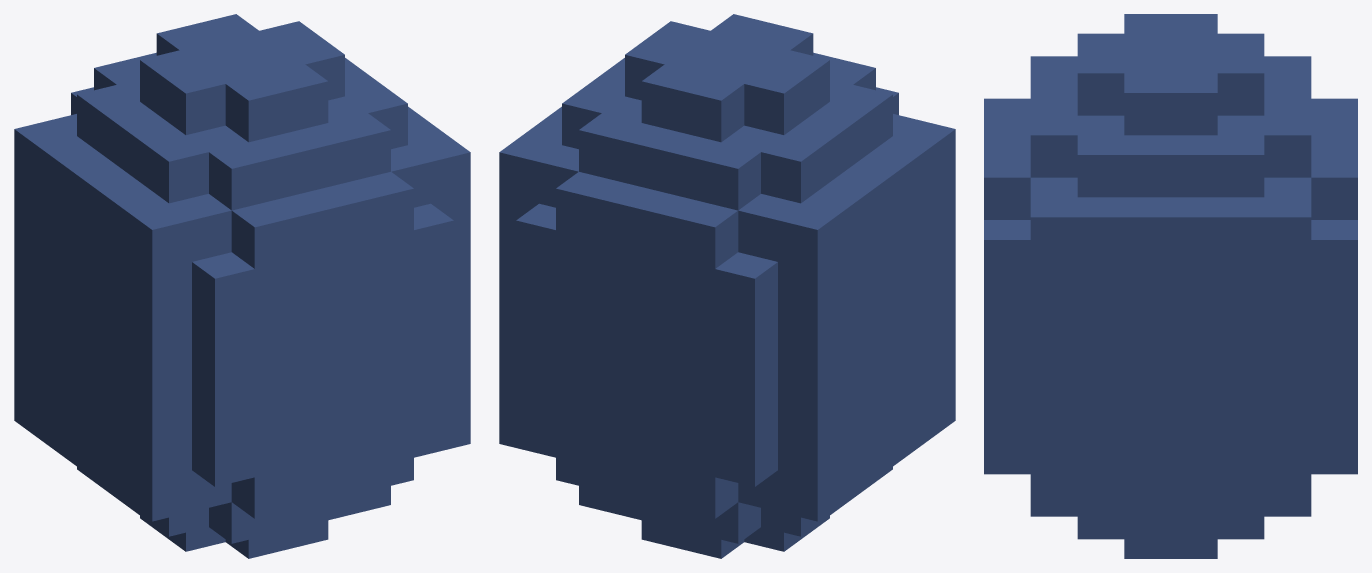
File: Cooler_for_texturing-0.obj
3 views of the same model, side by side, from view 1: azimuth 30°, elevation 25°; view 2: azimuth 150°, elevation 25°; view 3: azimuth 270°, elevation 25° (orthographic).
Bounding box in the file's own units: 0.8 × 1.1 × 0.8.
Materials: 1 (1 with a texture image).
